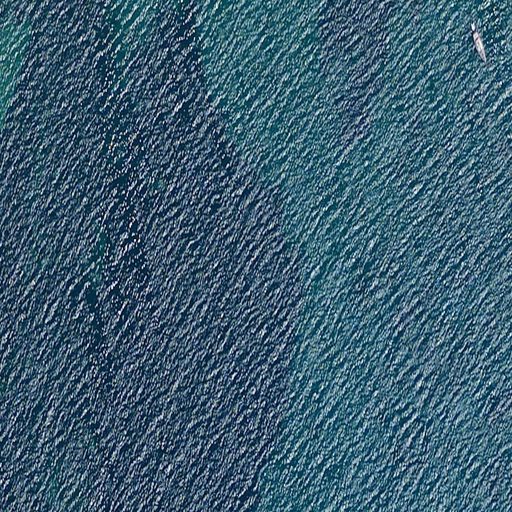ship: (470, 23, 490, 63)
